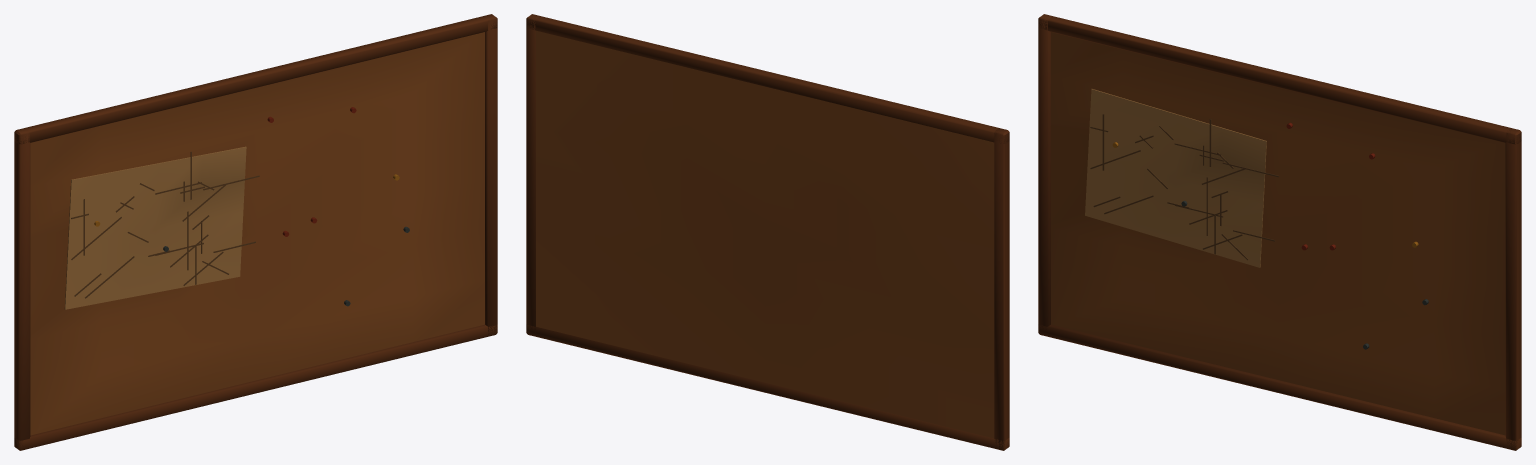
File: tablero_pared.glb
The picture shows the model from 3 angles, left to right: view 1: azimuth 30°, elevation 25°; view 2: azimuth 150°, elevation 25°; view 3: azimuth 330°, elevation 25°; orthographic projection.
Parts seen in each view (by area): view 1: tablero; view 2: tablero; view 3: tablero.
Boxes of the visible parts, left/top/right/bottom form: tablero: left=14, top=14, right=497, bottom=450; tablero: left=526, top=14, right=1009, bottom=450; tablero: left=1038, top=14, right=1521, bottom=450.
Size of the model in its own units: 1.64 by 1.04 by 0.0385.
